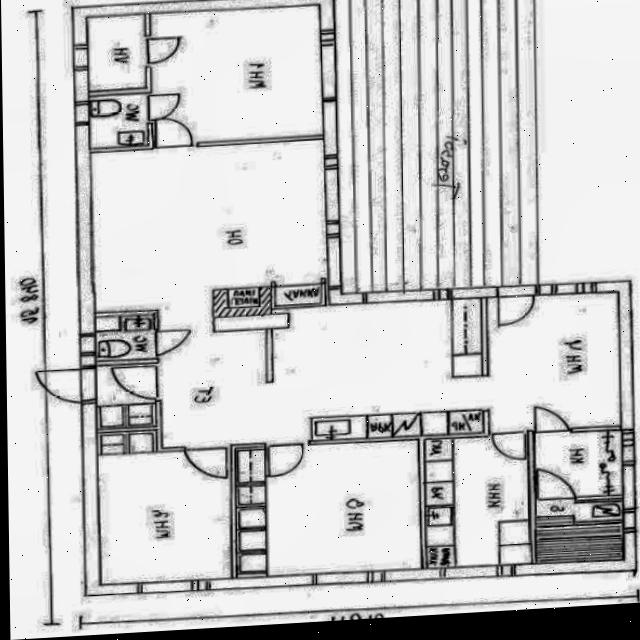room: (145, 4, 327, 145), (262, 441, 421, 576), (97, 431, 230, 585), (486, 292, 619, 433), (424, 434, 529, 568), (532, 430, 624, 500), (533, 501, 624, 564), (87, 15, 145, 91), (96, 364, 155, 429), (87, 94, 148, 148), (93, 314, 157, 361)
